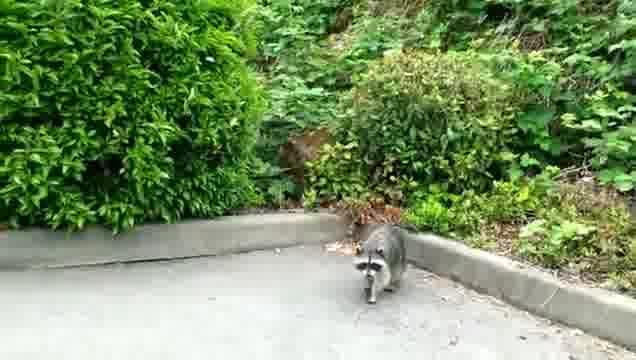raccoon: (355, 222, 408, 305)
